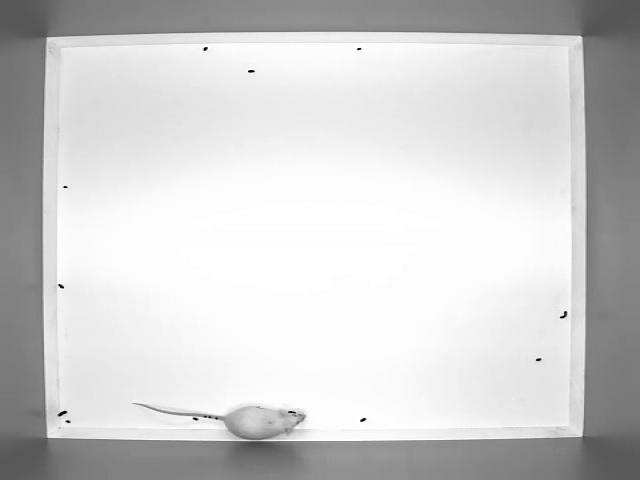Tikus: (134, 389, 309, 444)
